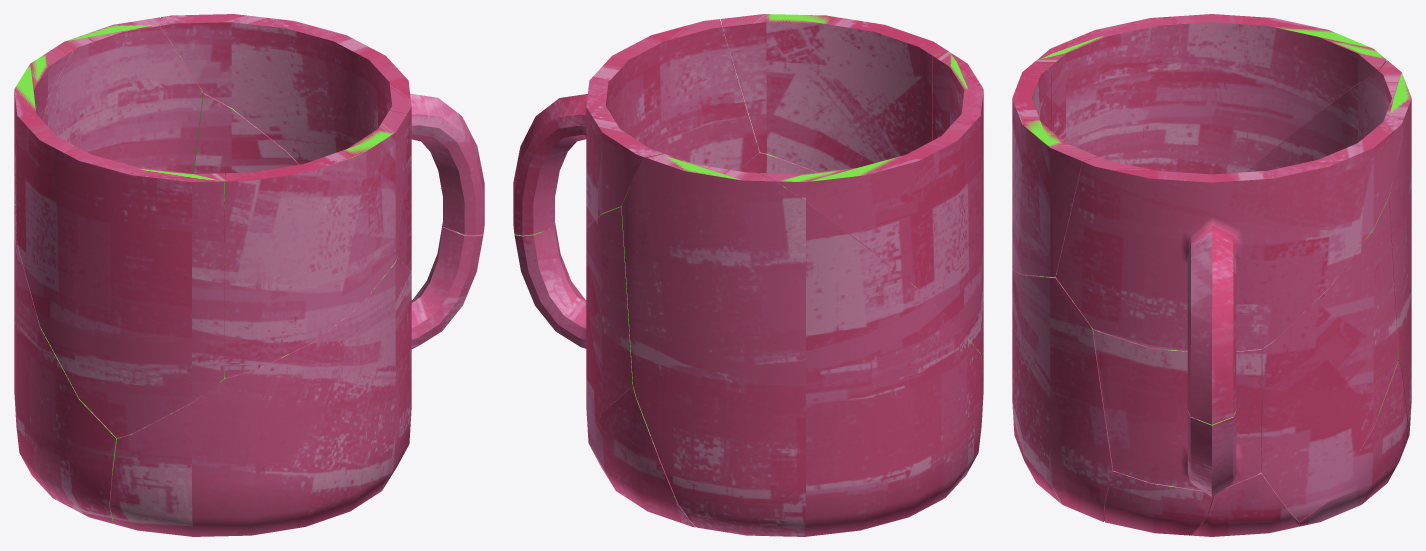
The model's file is PinkMug.obj.
3 renders of one model, left to right at view 1: azimuth 30°, elevation 25°; view 2: azimuth 150°, elevation 25°; view 3: azimuth 270°, elevation 25°, orthographic.
Visible parts, largest first — view 1: PinkMug_cell, PinkMug_cell.003, PinkMug_cell.009, PinkMug_cell.001, PinkMug_cell.005, PinkMug_cell.007, PinkMug_cell.008; view 2: PinkMug_cell.009, PinkMug_cell.005, PinkMug_cell.001, PinkMug_cell, PinkMug_cell.007, PinkMug_cell.004, PinkMug_cell.008, PinkMug_cell.003; view 3: PinkMug_cell.005, PinkMug_cell, PinkMug_cell.007, PinkMug_cell.003, PinkMug_cell.008, PinkMug_cell.009, PinkMug_cell.001, PinkMug_cell.004, PinkMug_cell.006, PinkMug_cell.002.
Part boxes in pixels (x1,y1,x2,y2): PinkMug_cell: [14, 51, 225, 437]; PinkMug_cell.003: [110, 257, 411, 536]; PinkMug_cell.009: [14, 17, 202, 523]; PinkMug_cell.001: [225, 110, 406, 377]; PinkMug_cell.005: [160, 14, 484, 270]; PinkMug_cell.007: [193, 92, 298, 177]; PinkMug_cell.008: [410, 222, 483, 348]; PinkMug_cell.009: [621, 153, 982, 536]; PinkMug_cell.005: [513, 19, 758, 235]; PinkMug_cell.001: [720, 14, 949, 172]; PinkMug_cell: [759, 52, 983, 363]; PinkMug_cell.007: [586, 207, 632, 441]; PinkMug_cell.004: [588, 386, 696, 527]; PinkMug_cell.008: [514, 223, 586, 348]; PinkMug_cell.003: [737, 143, 983, 435]; PinkMug_cell.005: [1056, 115, 1403, 424]; PinkMug_cell: [1036, 14, 1386, 174]; PinkMug_cell.007: [1261, 197, 1398, 521]; PinkMug_cell.003: [1012, 269, 1113, 521]; PinkMug_cell.008: [1093, 329, 1261, 496]; PinkMug_cell.009: [1247, 60, 1411, 438]; PinkMug_cell.001: [1012, 61, 1097, 276]; PinkMug_cell.004: [1298, 361, 1407, 526]; PinkMug_cell.006: [1105, 471, 1213, 535]; PinkMug_cell.002: [1191, 472, 1298, 536].
Size of the model in its own units: 1.33 by 1.03 by 1.04.
